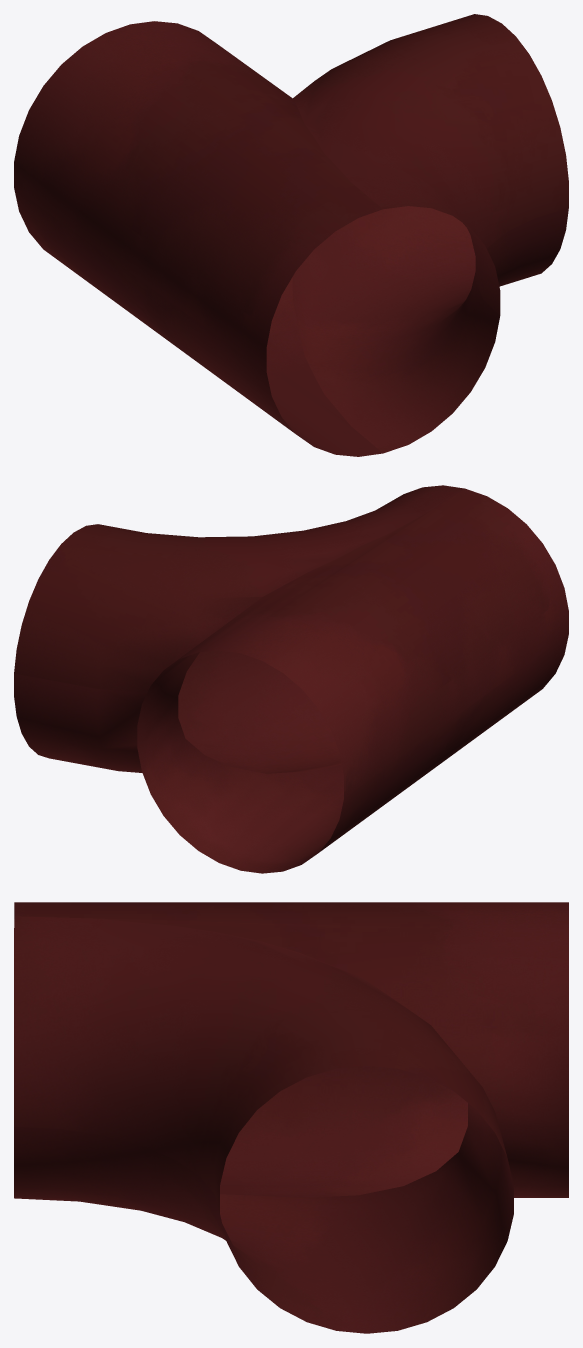
The model's file is Module_branche.FBX.
3 renders of one model, top to bottom at view 1: azimuth 30°, elevation 25°; view 2: azimuth 150°, elevation 25°; view 3: azimuth 270°, elevation 25°, orthographic. The views are drawn at different scales.
Parts seen in each view (by area): view 1: Module_branche; view 2: Module_branche; view 3: Module_branche.
Boxes of the visible parts, x1,y1,x2,y2 form: Module_branche: (14, 14, 568, 456); Module_branche: (14, 485, 568, 873); Module_branche: (14, 902, 568, 1333).
Bounding box in the file's own units: 67.83 × 40 × 75.07.
